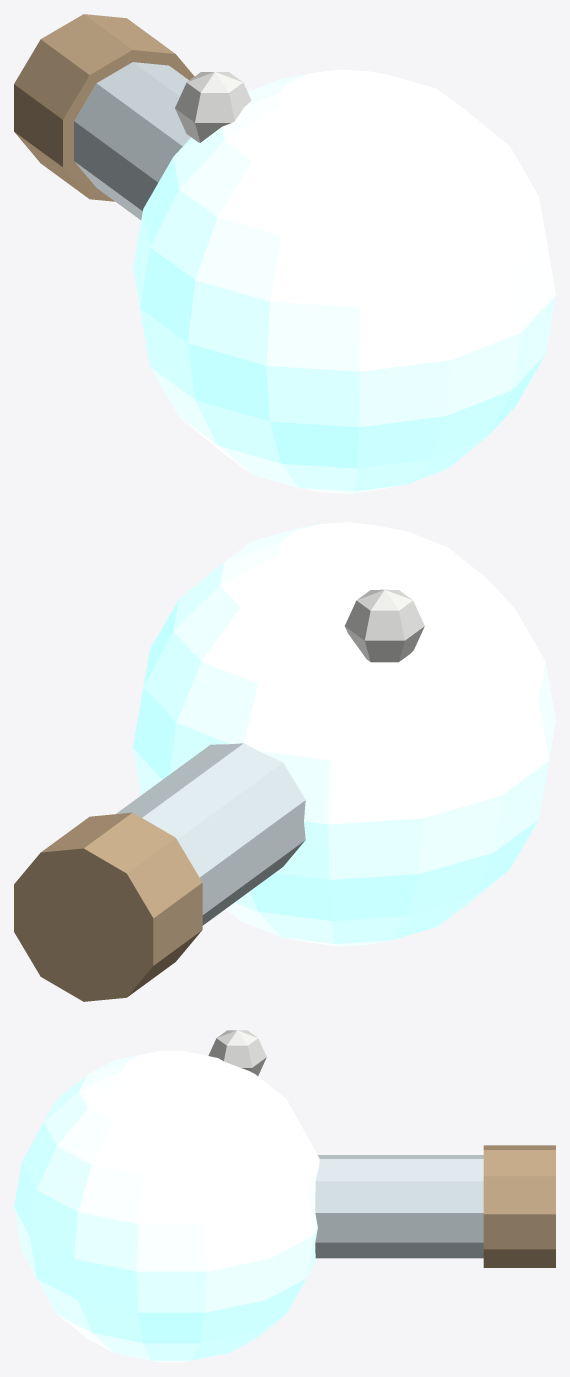
File: night_sight_held.gltf
3 views of the same model, one above another, from view 1: azimuth 30°, elevation 25°; view 2: azimuth 150°, elevation 25°; view 3: azimuth 270°, elevation 25° (orthographic). The views are drawn at different scales.
Visible parts, largest first — view 1: alchemy_night_sight_held; view 2: alchemy_night_sight_held; view 3: alchemy_night_sight_held.
Part boxes in pixels (x1,y1,x2,y2): alchemy_night_sight_held: (14,14,555,493); alchemy_night_sight_held: (14,522,555,1001); alchemy_night_sight_held: (14,1030,555,1362).
Size of the model in its own units: 0.0936 by 0.097 by 0.165.
